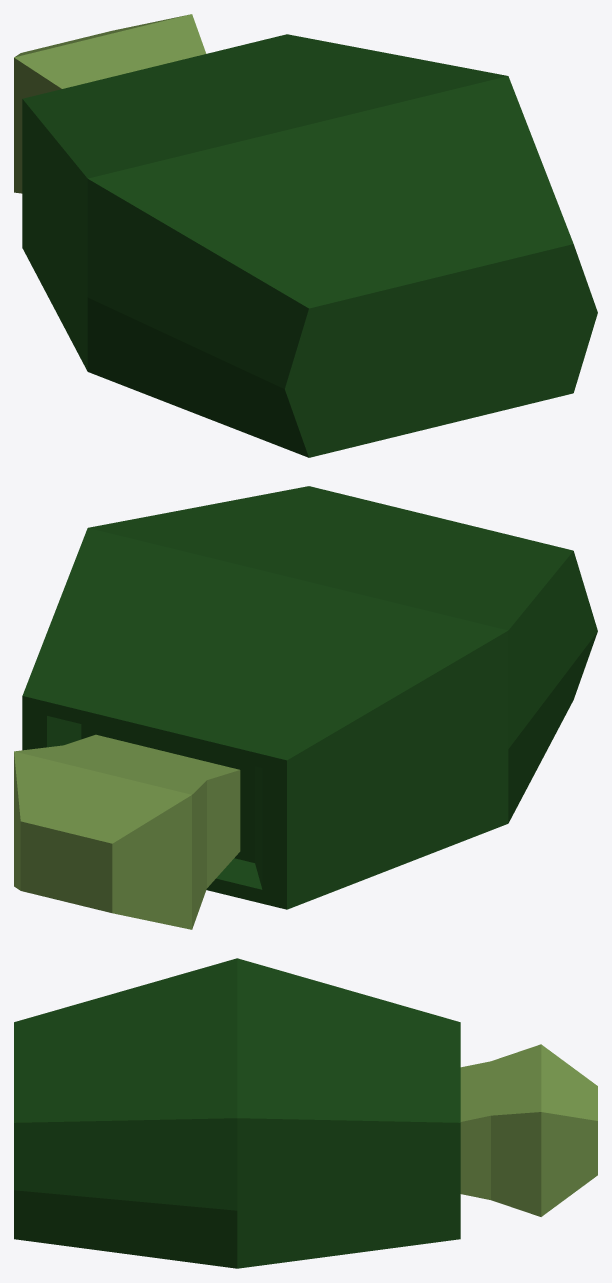
File: Turtle.fbx
3 renders of one model, top to bottom at view 1: azimuth 30°, elevation 25°; view 2: azimuth 150°, elevation 25°; view 3: azimuth 270°, elevation 25°, orthographic. The views are drawn at different scales.
Parts seen in each view (by area): view 1: Cube; view 2: Cube; view 3: Cube.
Boxes of the visible parts, x1,y1,x2,y2 form: Cube: (14, 14, 597, 457); Cube: (14, 486, 597, 929); Cube: (14, 958, 597, 1268).
Bounding box in the file's own units: 318 × 140 × 491.
